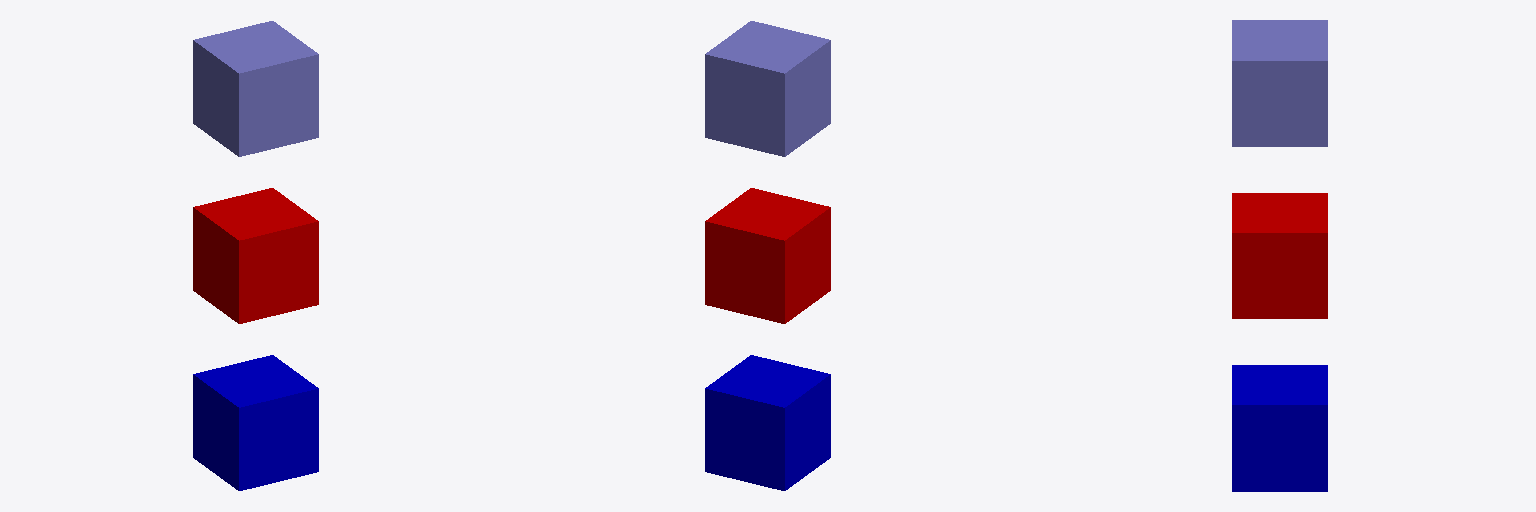
The robot description file, URDF, robot "test_material":
<?xml version="1.0" ?>
<robot name="test_material">
  <!-- materials for visualization -->
  <material name="Blue">
    <color rgba="0.0 0.0 0.8 1.0"/>
  </material>
  <material name="Green">
    <color rgba="0.0 0.8 0.0 1.0"/>
  </material>
  <material name="Grey">
    <color rgba="0.7 0.7 0.7 1.0"/>
  </material>
  <material name="Grey2">
    <color rgba="0.9 0.9 0.9 1.0"/>
  </material>
  <material name="Red">
    <color rgba="0.8 0.0 0.0 1.0"/>
  </material>
  <material name="White">
    <color rgba="1.0 1.0 1.0 1.0"/>
  </material>
  <material name="Black">
    <color rgba="0.1 0.1 0.1 1.0"/>
  </material>
  <material name="LightGrey">
    <color rgba="0.6 0.6 0.6 1.0"/>
  </material>
  <material name="Caster">
    <texture filename="package://pr2/materials/textures/pr2_caster_texture.png"/>
  </material>
  <material name="Wheel_l">
    <texture filename="package://pr2/materials/textures/pr2_wheel_left.png"/>
  </material>
  <material name="Wheel_r">
    <texture filename="package://pr2/materials/textures/pr2_wheel_right.png"/>
  </material>
  <material name="RollLinks">
    <texture filename="package://pr2/materials/textures/pr2_wheel_left.png"/>
  </material>

  <link name="link_1">
    <inertial>
      <mass value="1.0"/>
      <origin xyz="0 0 0.5"/>
      <inertia ixx="0.1" ixy="0" ixz="0" iyy="0.1" iyz="0" izz="0.1"/>
    </inertial>
    <visual>
      <origin rpy="0 0 0" xyz="0 0 0.5"/>
      <geometry>
        <box size="1 1 1"/>
      </geometry>
      <material name="Blue"/>
    </visual>
    <collision>
      <origin rpy="0 0 0" xyz="0 0 0.5"/>
      <geometry>
        <box size="1 1 1"/>
      </geometry>
    </collision>
  </link>
  <link name="link_2">
    <inertial>
      <mass value="1.0"/>
      <origin xyz="0 0 0.5"/>
      <inertia ixx="0.01" ixy="0.0" ixz="0.0" iyy="0.01" iyz="0.0" izz="0.01"/>
    </inertial>
    <visual>
      <origin rpy="0 0 0" xyz="0 0 0.5"/>
      <geometry>
        <box size="1 1 1"/>
      </geometry>
      <material name="Red"/>
    </visual>
    <collision>
      <origin rpy="0 0 0" xyz="0 0 0.5"/>
      <geometry>
        <box size="1 1 1"/>
      </geometry>
    </collision>
  </link>
  <joint name="joint_12" type="fixed">
    <origin rpy="0 0 0" xyz="0 0 2.0"/>
    <child link="link_2"/>
    <parent link="link_1"/>
  </joint>
  <link name="link_3">
    <inertial>
      <mass value="1.0"/>
      <origin xyz="0 0 0.5"/>
      <inertia ixx="0.01" ixy="0.0" ixz="0.0" iyy="0.01" iyz="0.0" izz="0.01"/>
    </inertial>
    <visual>
      <origin rpy="0 0 0" xyz="0 0 0.5"/>
      <geometry>
        <box size="1 1 1"/>
      </geometry>
      <material name="grayblue">
        <color rgba="0.5 0.5 0.8 1"/>
      </material>
    </visual>
    <collision>
      <origin rpy="0 0 0" xyz="0 0 0.5"/>
      <geometry>
        <box size="1 1 1"/>
      </geometry>
    </collision>
  </link>
  <joint name="joint_23" type="fixed">
    <origin rpy="0 0 0" xyz="0 0 2.0"/>
    <child link="link_3"/>
    <parent link="link_2"/>
  </joint>
</robot>

--- What the picture shows (computed from the rendered views, not written in the file) ---
3 views of the same robot in one strip: view 1: azimuth 30°, elevation 25°; view 2: azimuth 150°, elevation 25°; view 3: azimuth 270°, elevation 25° (orthographic).
Robot: test_material — 3 links, 2 joints (2 fixed); root link link_1; default pose: every joint at zero.
Links seen in each view (by area): view 1: link_1, link_3, link_2; view 2: link_1, link_3, link_2; view 3: link_1, link_3, link_2.
Link boxes in pixels (x1,y1,x2,y2): link_1: (193,355,318,490); link_3: (193,21,318,156); link_2: (193,188,318,323); link_1: (705,355,830,490); link_3: (705,21,830,156); link_2: (705,188,830,323); link_1: (1232,365,1327,491); link_3: (1232,20,1327,146); link_2: (1232,193,1327,318).
Bounding box of the posed robot: 1 × 1 × 5 m (x, y, z).
Geometry: primitives only (box / cylinder / sphere), no mesh files.